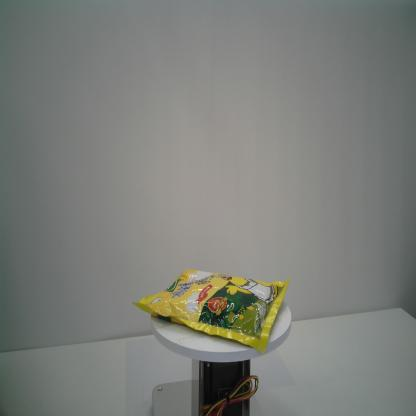Seasoner: (130, 268, 293, 354)
